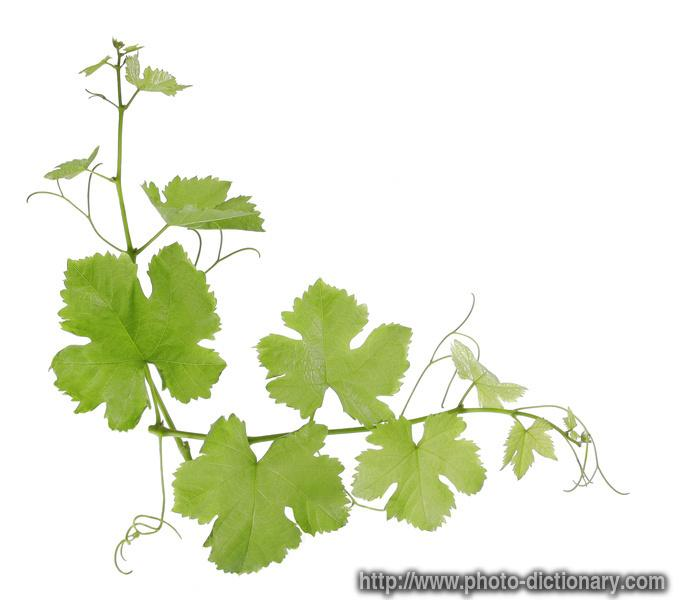grape leaf black rot: (26, 241, 234, 444), (143, 419, 347, 586), (250, 282, 425, 428), (347, 400, 493, 544), (127, 168, 281, 255), (498, 418, 564, 495)
